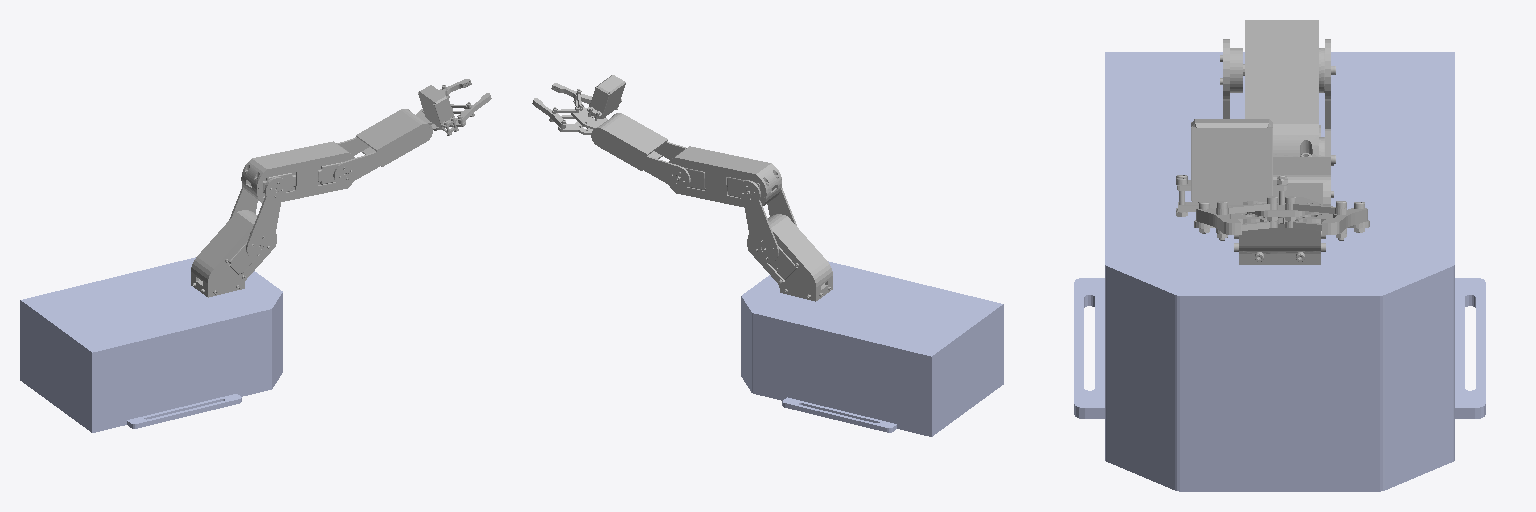
The robot description file, URDF, robot "spadS100":
<?xml version="1.0" encoding="utf-8"?>
<!-- This URDF was automatically created by SolidWorks to URDF Exporter! Originally created by [author] ([email redacted]) 
     Commit Version: 1.6.0-1-g15f4949  Build Version: 1.6.7594.29634
     For more information, please see http://wiki.ros.org/sw_urdf_exporter -->
<robot
  name="spadS100">
  <link
    name="base_link">
    <inertial>
      <origin
        xyz="-0.143558743368683 4.16333634234434E-17 -0.000254295342407077"
        rpy="0 0 0" />
      <mass
        value="4.8826996293206" />
      <inertia
        ixx="0.0160147165797759"
        ixy="-1.49011876027327E-18"
        ixz="8.12027234175984E-06"
        iyy="0.0349824035670418"
        iyz="-3.77937683935304E-19"
        izz="0.0419769366326633" />
    </inertial>
    <visual>
      <origin
        xyz="0 0 0"
        rpy="0 0 0" />
      <geometry>
        <mesh
          filename="package://spadS100/meshes/base_link.STL" />
      </geometry>
      <material
        name="">
        <color
          rgba="0.792156862745098 0.819607843137255 0.933333333333333 1" />
      </material>
    </visual>
    <collision>
      <origin
        xyz="0 0 0"
        rpy="0 0 0" />
      <geometry>
        <mesh
          filename="package://spadS100/meshes/base_link.STL" />
      </geometry>
    </collision>
  </link>
  <link
    name="Link1">
    <inertial>
      <origin
        xyz="0.0243203705649345 -0.000484902606538731 0.0390507650880949"
        rpy="0 0 0" />
      <mass
        value="0.110864751991613" />
      <inertia
        ixx="4.13225088702076E-05"
        ixy="-3.88360572701108E-07"
        ixz="-2.24588708689794E-05"
        iyy="6.37243973387624E-05"
        iyz="-3.25817231944212E-07"
        izz="4.91046991336971E-05" />
    </inertial>
    <visual>
      <origin
        xyz="0 0 0"
        rpy="0 0 0" />
      <geometry>
        <mesh
          filename="package://spadS100/meshes/Link1.STL" />
      </geometry>
      <material
        name="">
        <color
          rgba="0.752941176470588 0.752941176470588 0.752941176470588 1" />
      </material>
    </visual>
    <collision>
      <origin
        xyz="0 0 0"
        rpy="0 0 0" />
      <geometry>
        <mesh
          filename="package://spadS100/meshes/Link1.STL" />
      </geometry>
    </collision>
  </link>
  <joint
    name="joint1"
    type="continuous">
    <origin
      xyz="-0.06 0 0.0525"
      rpy="0 0 0" />
    <parent
      link="base_link" />
    <child
      link="Link1" />
    <axis
      xyz="0 0 1" />
  </joint>
  <link
    name="Link2">
    <inertial>
      <origin
        xyz="0.00955656672573496 0.02959921850808 0.00366631668138551"
        rpy="0 0 0" />
      <mass
        value="0.0232388450514006" />
      <inertia
        ixx="1.2972096565915E-05"
        ixy="-3.68804276703001E-06"
        ixz="8.7216944804824E-23"
        iyy="2.73999302404856E-06"
        iyz="-4.20066383093746E-22"
        izz="1.56558569465794E-05" />
    </inertial>
    <visual>
      <origin
        xyz="0 0 0"
        rpy="0 0 0" />
      <geometry>
        <mesh
          filename="package://spadS100/meshes/Link2.STL" />
      </geometry>
      <material
        name="">
        <color
          rgba="0.752941176470588 0.752941176470588 0.752941176470588 1" />
      </material>
    </visual>
    <collision>
      <origin
        xyz="0 0 0"
        rpy="0 0 0" />
      <geometry>
        <mesh
          filename="package://spadS100/meshes/Link2.STL" />
      </geometry>
    </collision>
  </link>
  <joint
    name="joint"
    type="continuous">
    <origin
      xyz="0.042174 0 0.054422"
      rpy="1.5708 0 0" />
    <parent
      link="Link1" />
    <child
      link="Link2" />
    <axis
      xyz="0 0 1" />
  </joint>
  <link
    name="Link3">
    <inertial>
      <origin
        xyz="0.0479706059601693 -0.0016736097682499 -0.00147608993815138"
        rpy="0 0 0" />
      <mass
        value="0.151265370497947" />
      <inertia
        ixx="2.56860118101981E-05"
        ixy="3.20823747815898E-06"
        ixz="9.13592476565545E-11"
        iyy="0.00011943489198943"
        iyz="-1.2217449448932E-10"
        izz="0.000115105559620247" />
    </inertial>
    <visual>
      <origin
        xyz="0 0 0"
        rpy="0 0 0" />
      <geometry>
        <mesh
          filename="package://spadS100/meshes/Link3.STL" />
      </geometry>
      <material
        name="">
        <color
          rgba="0.752941176470588 0.752941176470588 0.752941176470588 1" />
      </material>
    </visual>
    <collision>
      <origin
        xyz="0 0 0"
        rpy="0 0 0" />
      <geometry>
        <mesh
          filename="package://spadS100/meshes/Link3.STL" />
      </geometry>
    </collision>
  </link>
  <joint
    name="joint3"
    type="continuous">
    <origin
      xyz="0.022122 0.068517 0"
      rpy="0 0 0" />
    <parent
      link="Link2" />
    <child
      link="Link3" />
    <axis
      xyz="0 0 -1" />
  </joint>
  <link
    name="Link4">
    <inertial>
      <origin
        xyz="0.102122099305755 0.0351858704393887 0.00906682979334579"
        rpy="0 0 0" />
      <mass
        value="0.0879227358363708" />
      <inertia
        ixx="1.94634770429794E-05"
        ixy="-7.02902732549627E-06"
        ixz="1.63552624920972E-08"
        iyy="4.38071865969415E-05"
        iyz="-7.4493280138576E-08"
        izz="4.29126286227738E-05" />
    </inertial>
    <visual>
      <origin
        xyz="0 0 0"
        rpy="0 0 0" />
      <geometry>
        <mesh
          filename="package://spadS100/meshes/Link4.STL" />
      </geometry>
      <material
        name="">
        <color
          rgba="0.752941176470588 0.752941176470588 0.752941176470588 1" />
      </material>
    </visual>
    <collision>
      <origin
        xyz="0 0 0"
        rpy="0 0 0" />
      <geometry>
        <mesh
          filename="package://spadS100/meshes/Link4.STL" />
      </geometry>
    </collision>
  </link>
  <joint
    name="joint4"
    type="continuous">
    <origin
      xyz="0.095944 -0.0032792 0"
      rpy="0 0 0" />
    <parent
      link="Link3" />
    <child
      link="Link4" />
    <axis
      xyz="0 0 -1" />
  </joint>
</robot>

--- Render facts (derived) ---
3 views of the same robot in one strip: view 1: azimuth 30°, elevation 25°; view 2: azimuth 150°, elevation 25°; view 3: azimuth 270°, elevation 25° (orthographic).
Robot: spadS100 — 5 links, 4 joints (4 continuous); root link base_link; default pose: every joint at zero.
Visible links, largest first — view 1: base_link, Link4, Link3, Link1, Link2; view 2: base_link, Link4, Link3, Link1, Link2; view 3: base_link, Link4, Link3, Link1, Link2.
Boxes of the visible links, x1,y1,x2,y2 form: base_link: (20, 257, 282, 432); Link4: (333, 79, 491, 185); Link3: (241, 141, 354, 202); Link1: (191, 210, 276, 297); Link2: (229, 177, 287, 259); base_link: (741, 261, 1003, 436); Link4: (532, 75, 690, 189); Link3: (669, 146, 781, 206); Link1: (747, 214, 832, 301); Link2: (738, 168, 796, 263); base_link: (1074, 52, 1485, 491); Link4: (1176, 119, 1369, 240); Link3: (1243, 20, 1335, 163); Link1: (1234, 125, 1325, 264); Link2: (1220, 39, 1333, 197).
Size in the robot's own frame: 0.5793 by 0.2 by 0.3034 metres.
Meshes: 5 distinct files referenced, 5 mesh visuals loaded (5 binary STL).